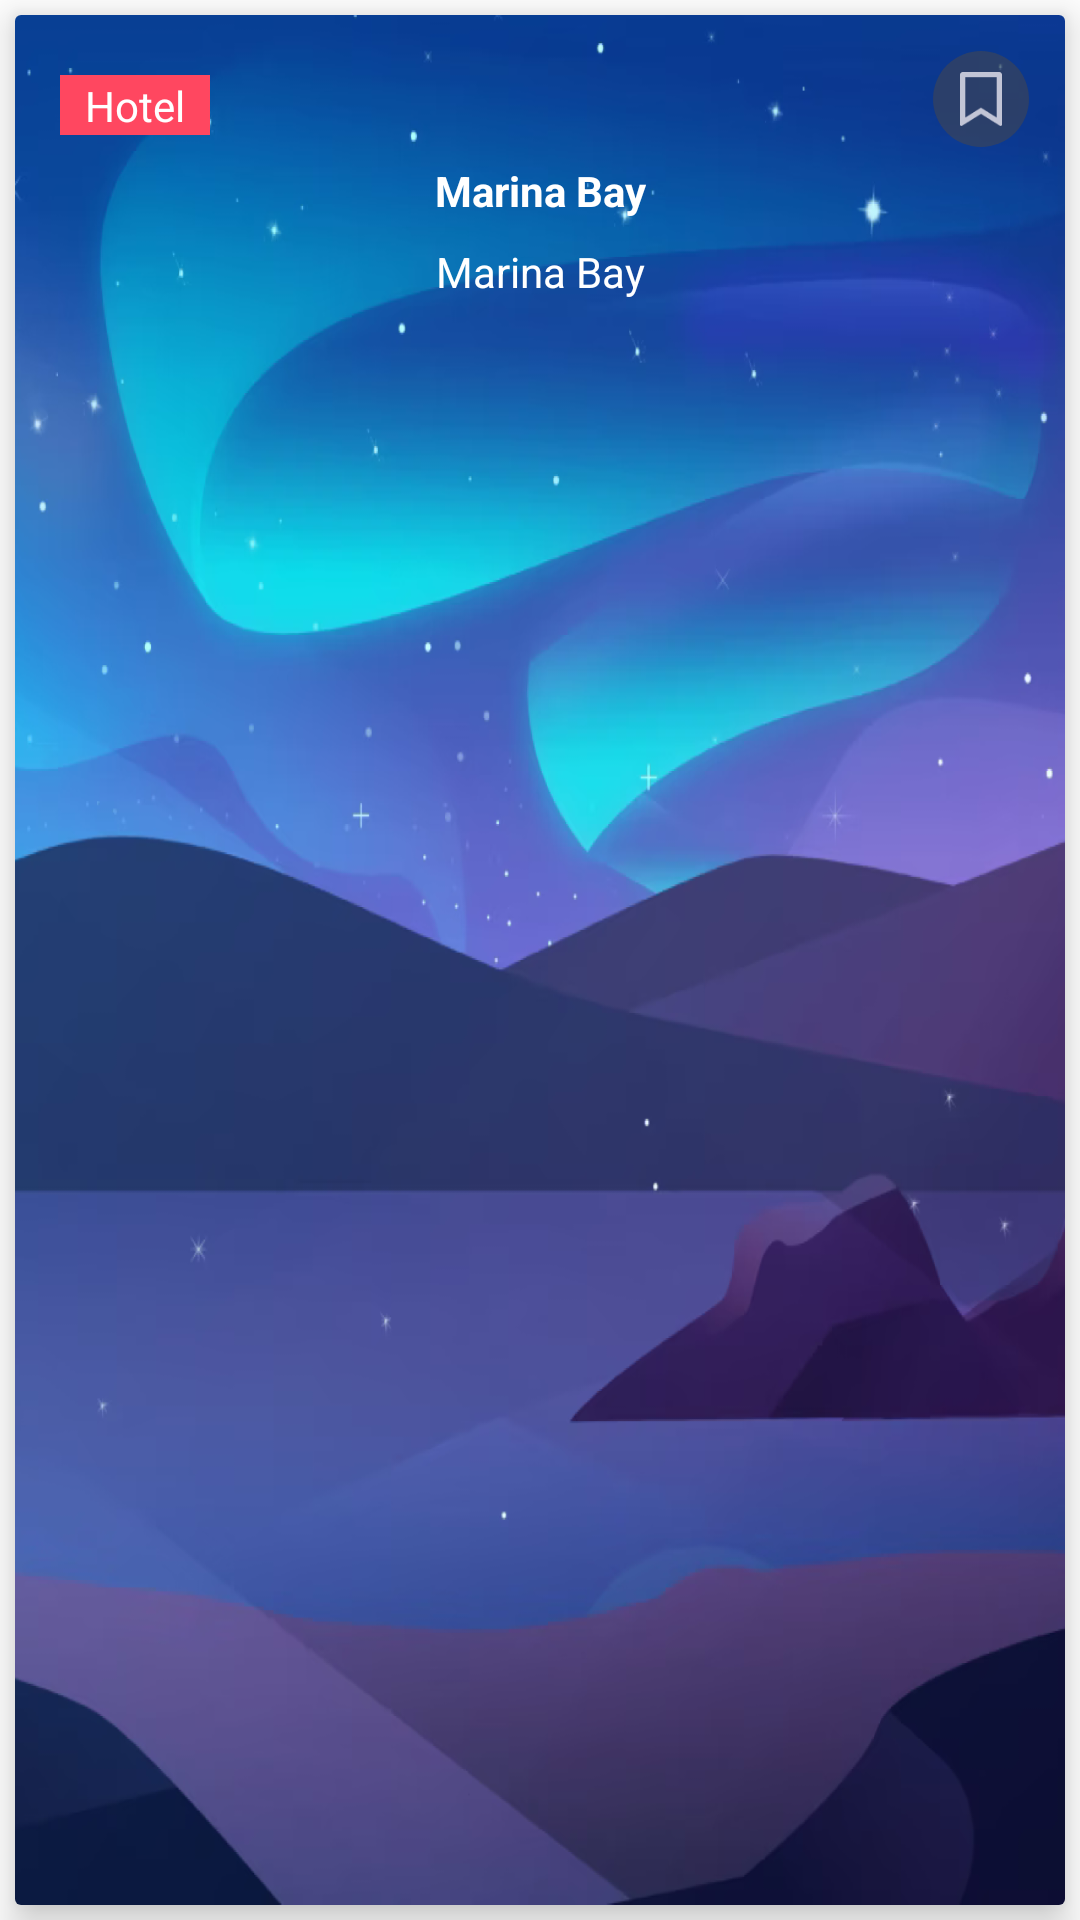

Named icons in this screenshot (1080w x 1920h) and their centers, (x,y):
bookmark tablayout: (981,99)
